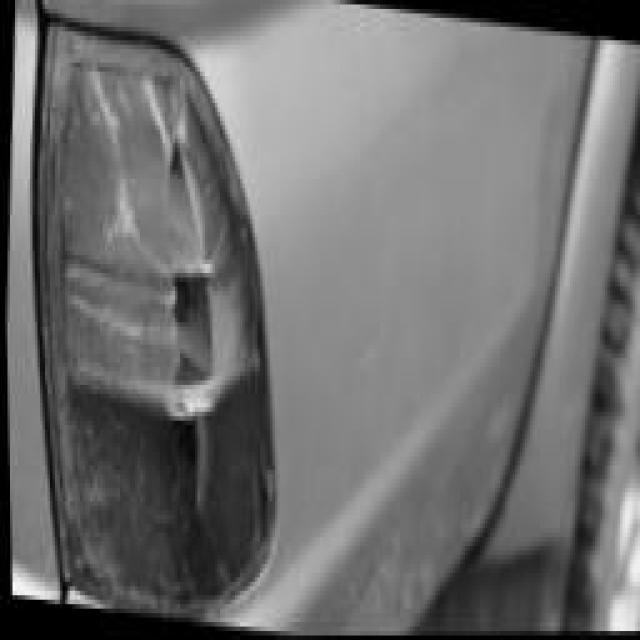Light: (12, 4, 302, 598)
